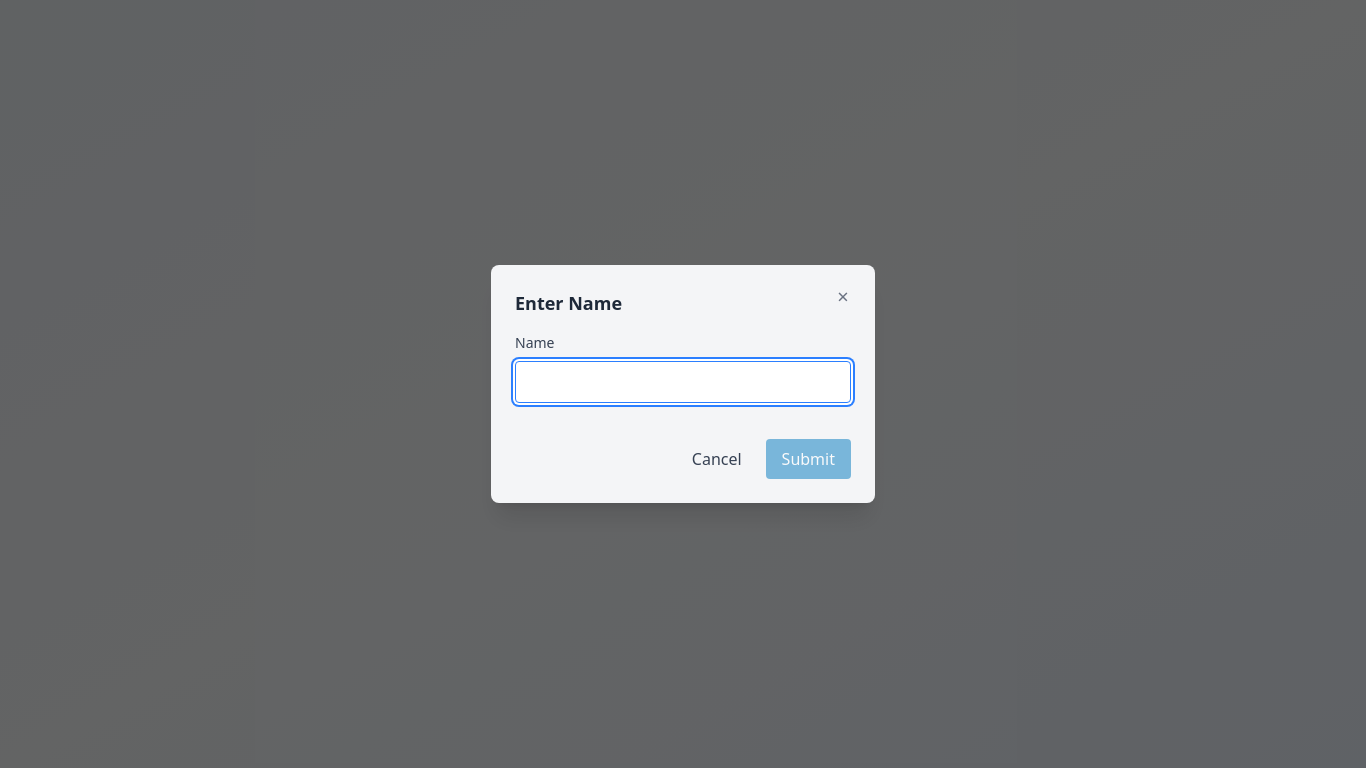
InputDialog › enables submit button when value is provided
In the field: (683, 382) [515,361,851,403], type "Test"
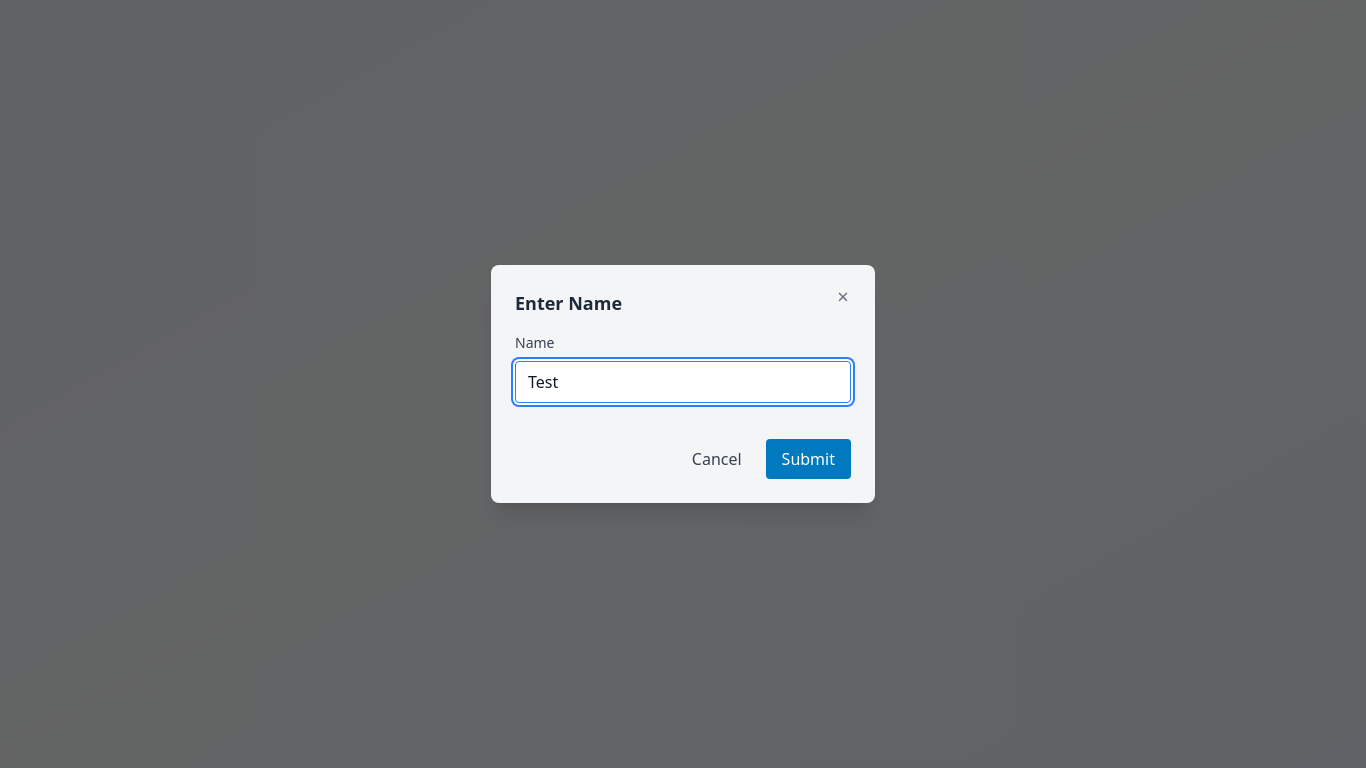
Result: the button "Submit" is enabled at [766,439,851,479]
